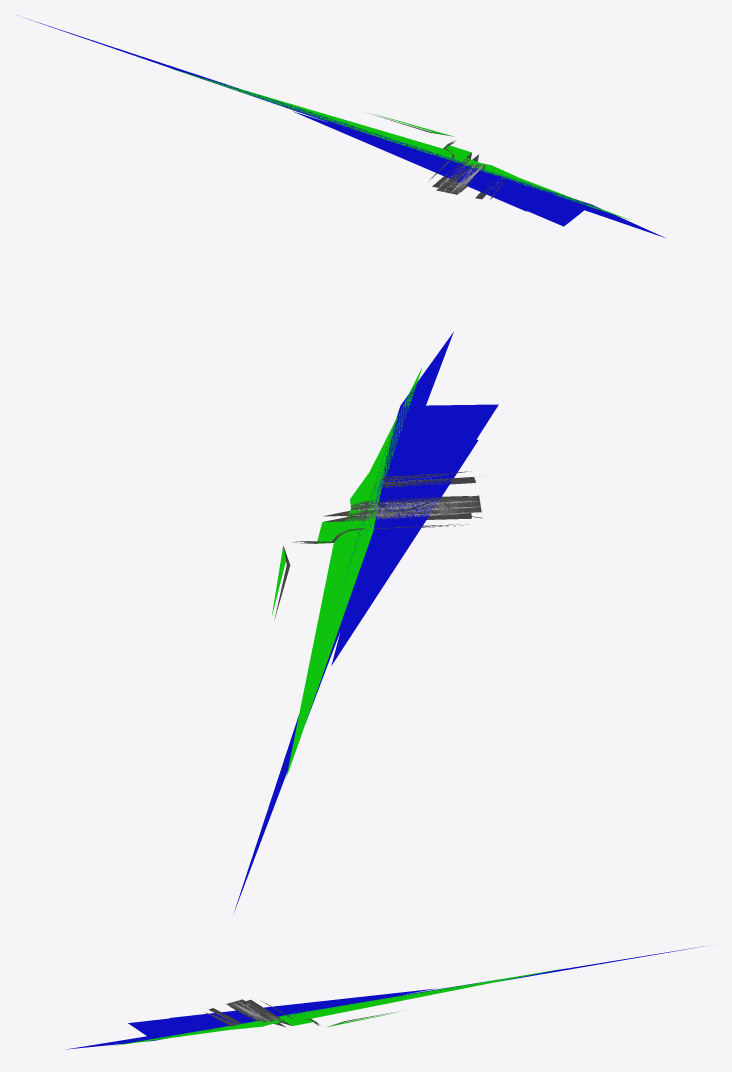
The picture shows the model from 3 angles, top to bottom: view 1: azimuth 30°, elevation 25°; view 2: azimuth 150°, elevation 25°; view 3: azimuth 270°, elevation 25°; orthographic projection. The views are drawn at different scales.
Size of the model in its own units: 147 by 0.201 by 384.
